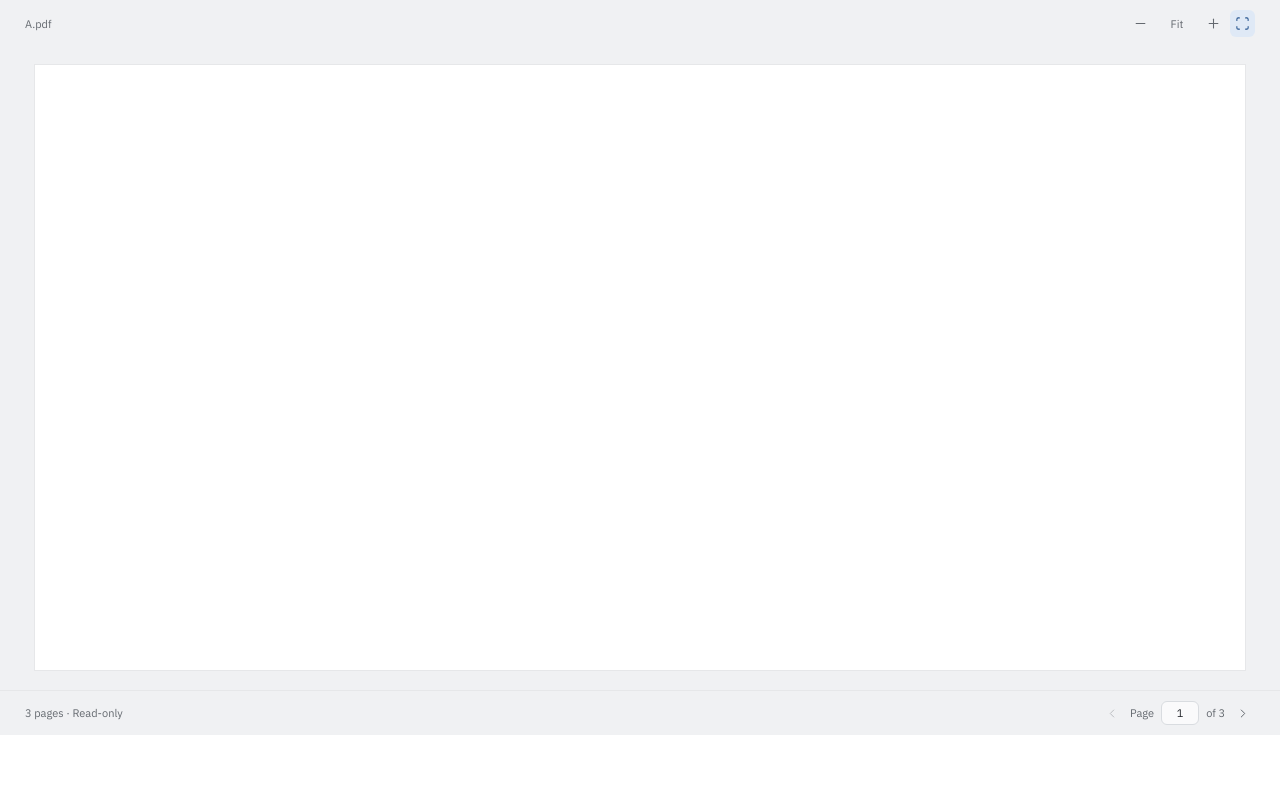
Test: Stage navigation › Prev/Next move a page and are disabled at the ends
This screenshot has width=1280, height=800.
Expected: the button named "Previous page" is disabled, [1100,699,1124,727]
Click the button named "Next page".
click(1243, 713)  # box [1231,699,1255,727]
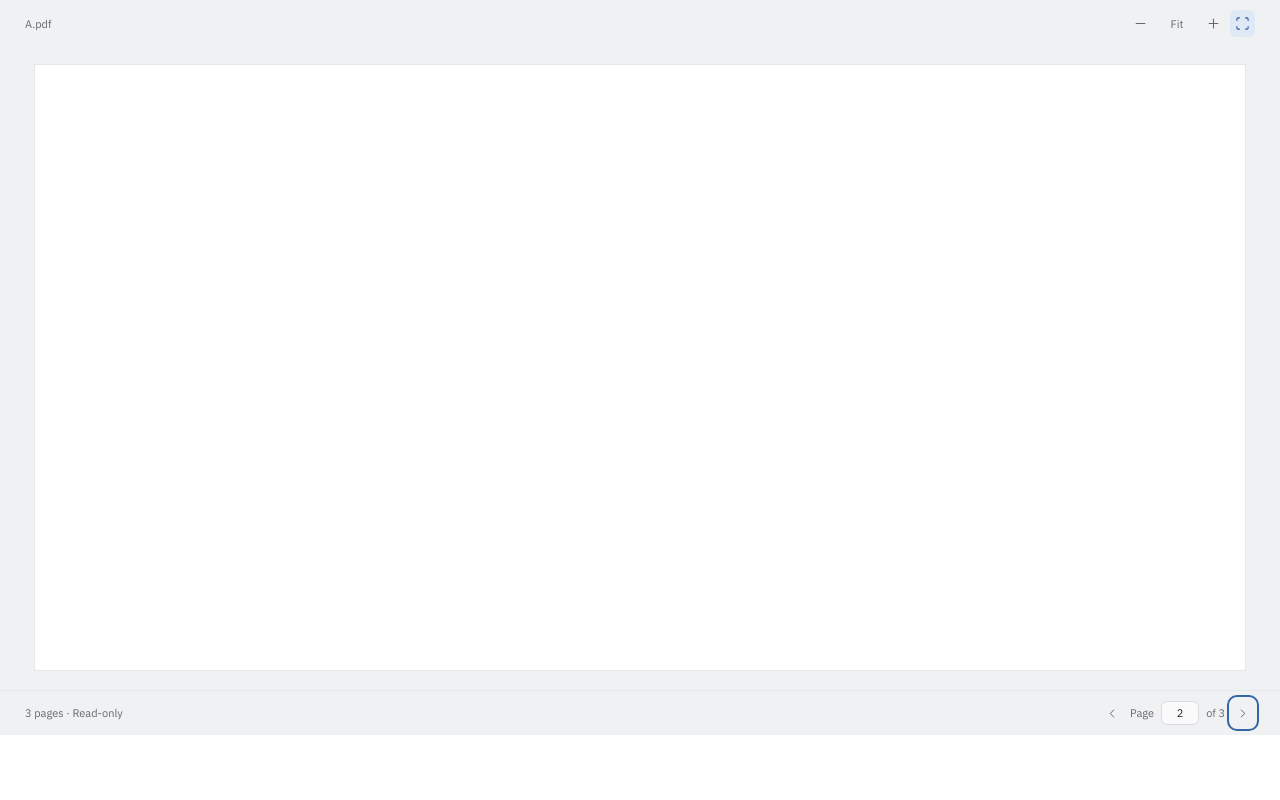
Click the button named "Next page".
click(1243, 713)  # box [1231,699,1255,727]
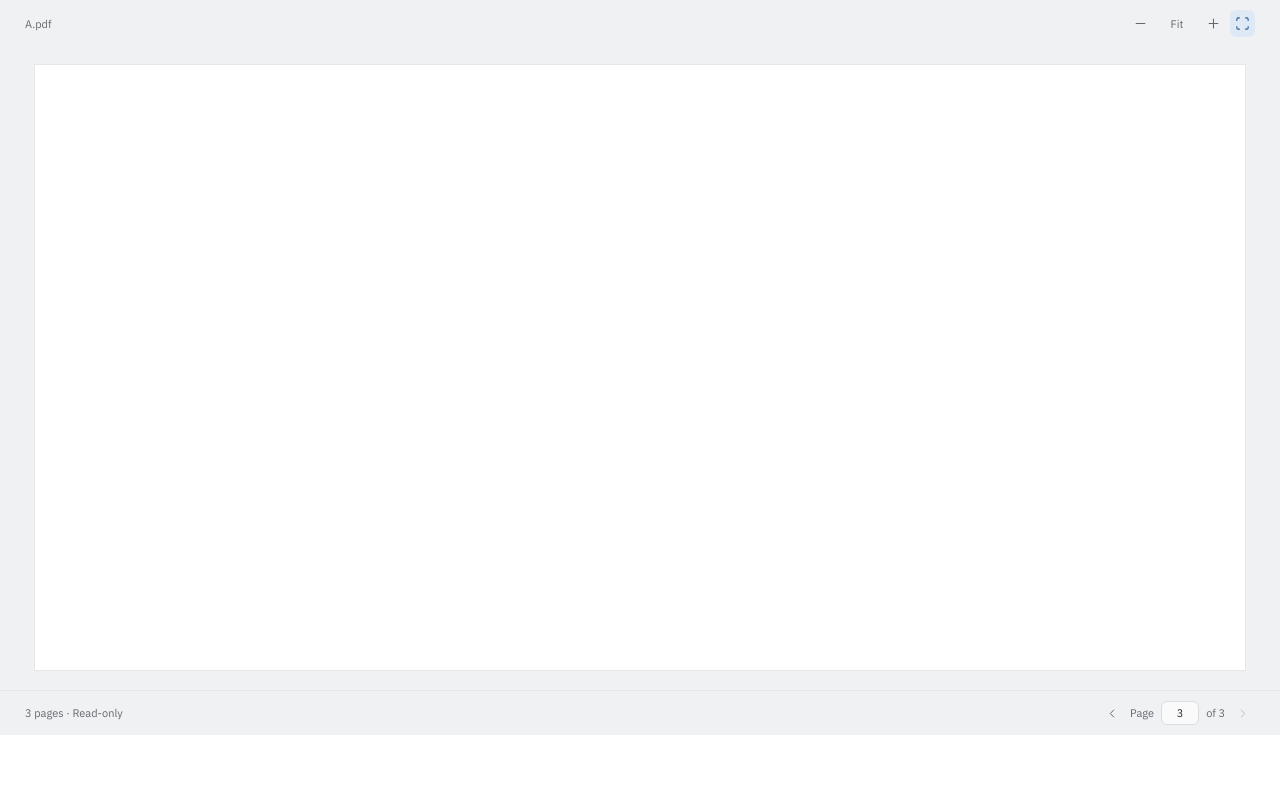
Expected: the button named "Previous page" is enabled, [1100,699,1124,727]
Now the button named "Next page" is disabled, box [1231,699,1255,727]
Now the number field named "Go to page" holds "3", box [1161,701,1199,725]
